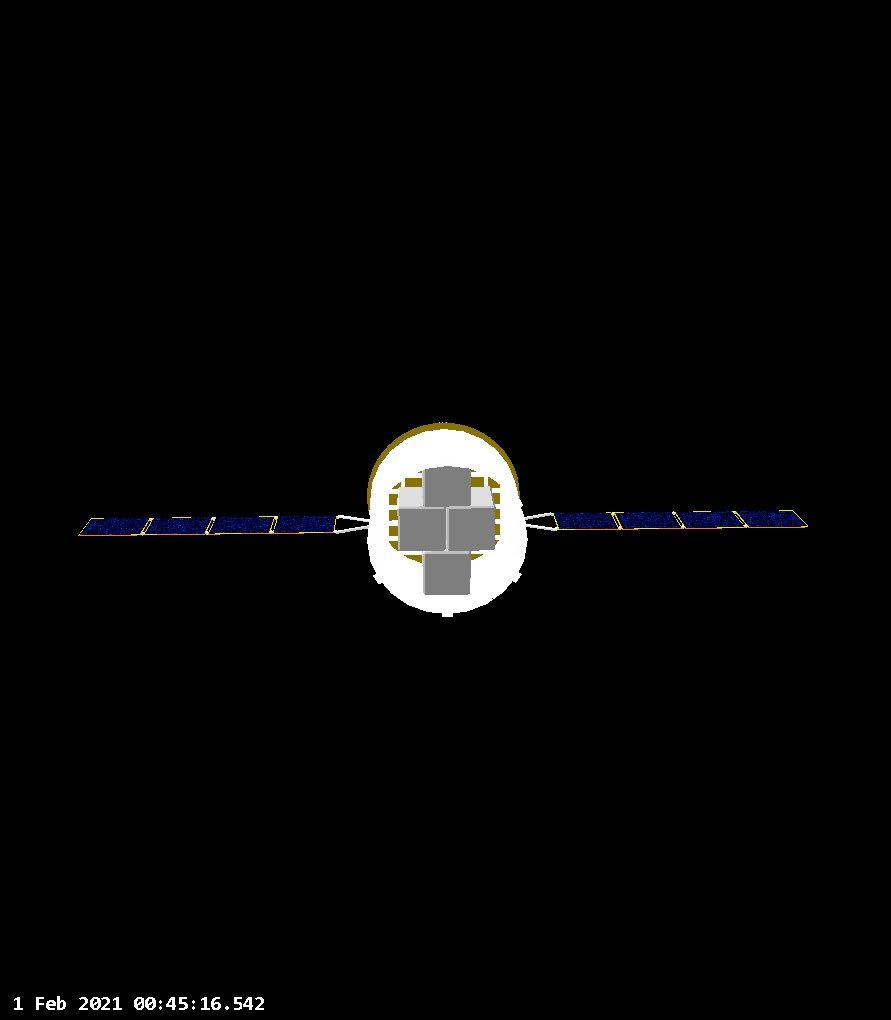body: (364, 420, 529, 615)
solar: (76, 511, 345, 541), (546, 507, 812, 535)
thruster: (370, 466, 529, 614)
